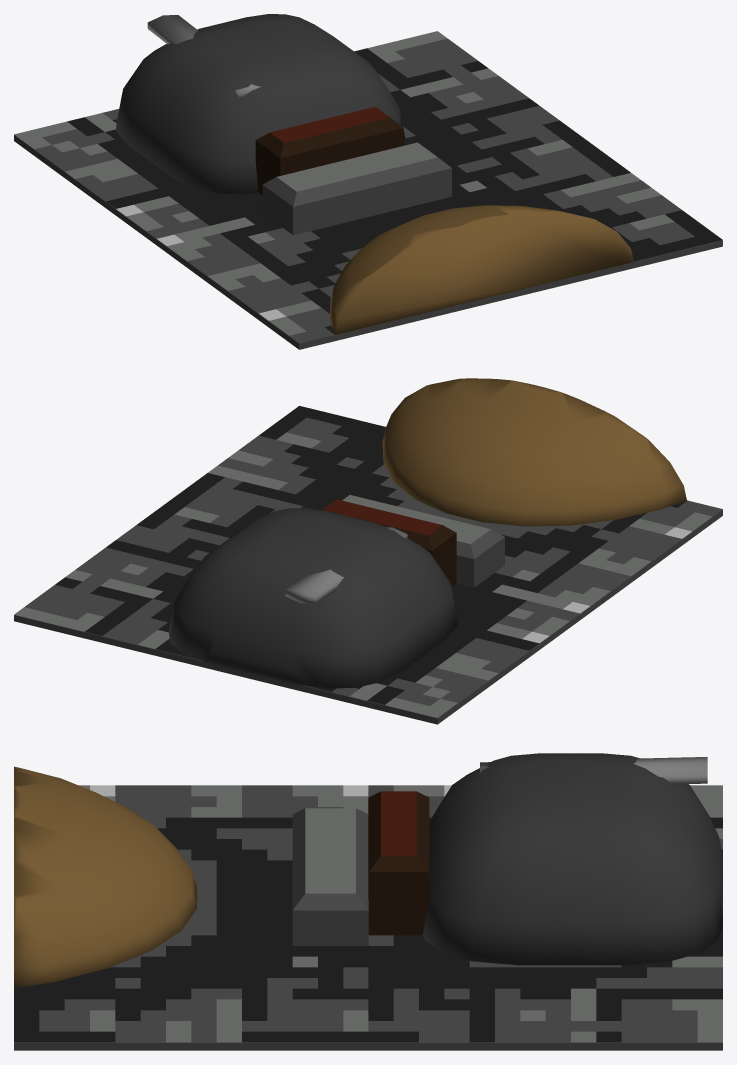
The model's file is newshd-245.glb.
3 views of the same model, one above another, from view 1: azimuth 30°, elevation 25°; view 2: azimuth 150°, elevation 25°; view 3: azimuth 270°, elevation 25° (orthographic). The views are drawn at different scales.
Parts seen in each view (by area): view 1: newshd-245; view 2: newshd-245; view 3: newshd-245.
Part boxes in pixels (left/top/right/bottom): newshd-245: left=14, top=14, right=722, bottom=349; newshd-245: left=14, top=378, right=722, bottom=724; newshd-245: left=14, top=753, right=722, bottom=1050.
Size of the model in its own units: 2 by 0.44 by 2.33.
